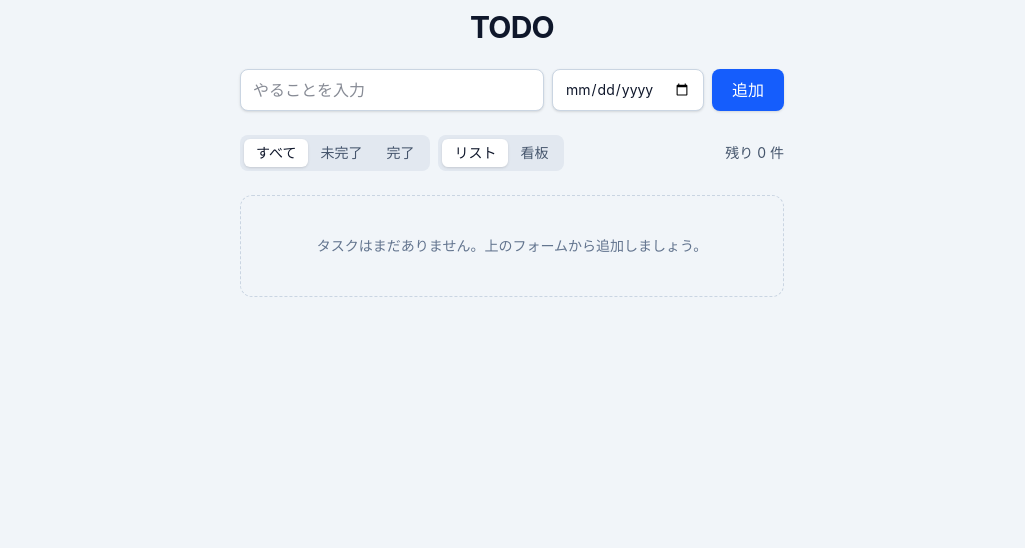
Test: App › セクションと看板表示 › フィルタは看板表示にも効く
Step 1. Type "A" into the field labelled "やること" → (392, 90), box [240,69,544,111]
Step 2. Click the button "追加" → (748, 90), box [712,69,784,111]
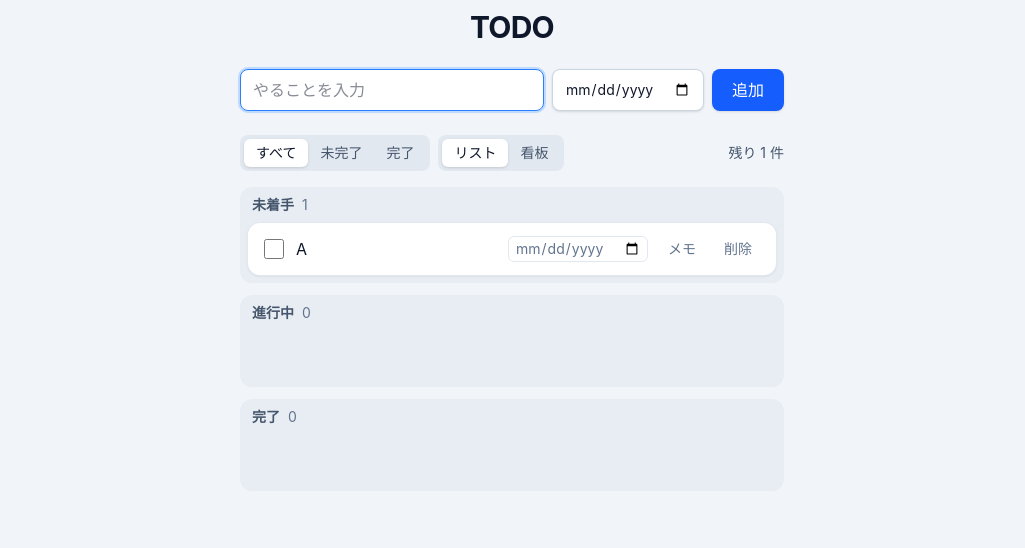
Step 3. Type "B" into the field labelled "やること" → (392, 90), box [240,69,544,111]
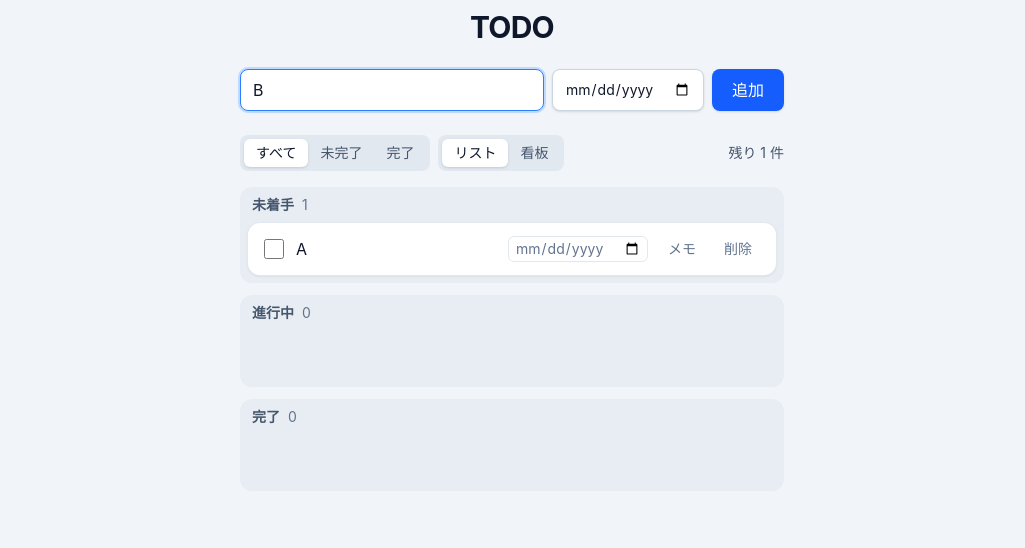
Step 4. Click the button "追加" → (748, 90), box [712,69,784,111]
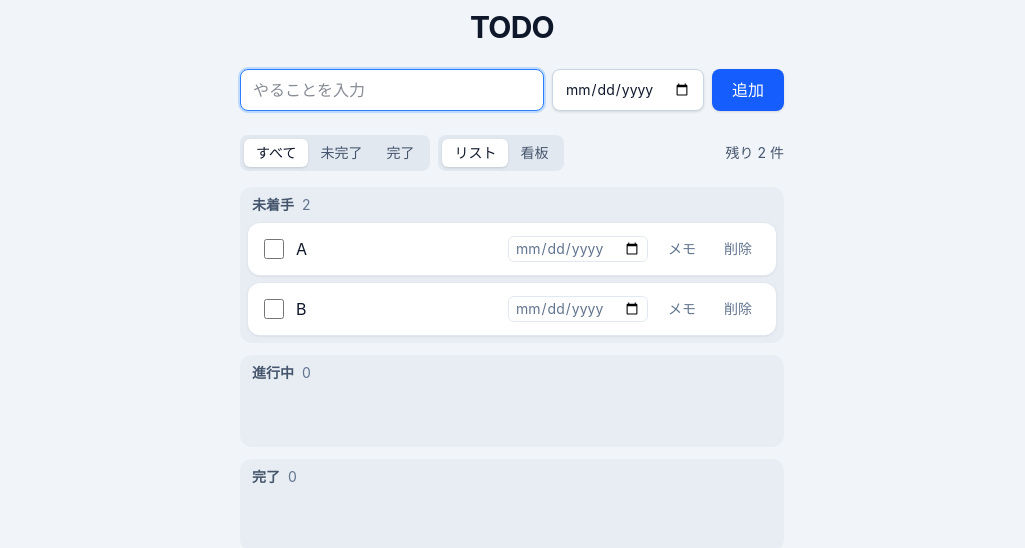
Step 5. Click the 1st checkbox named "完了にする" → (274, 249), box [264,239,284,259]
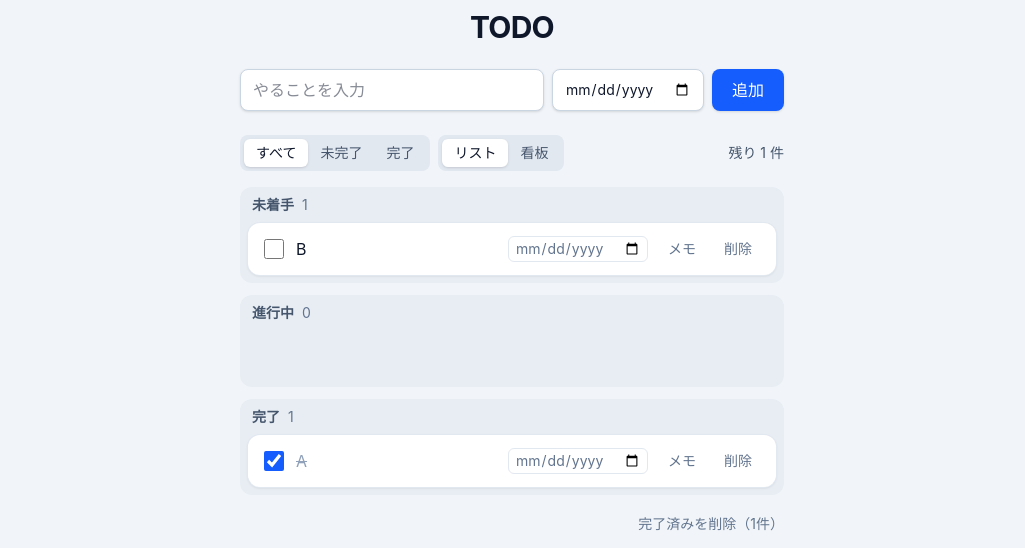
Step 6. Click the button "看板" → (534, 153), box [508,139,560,167]
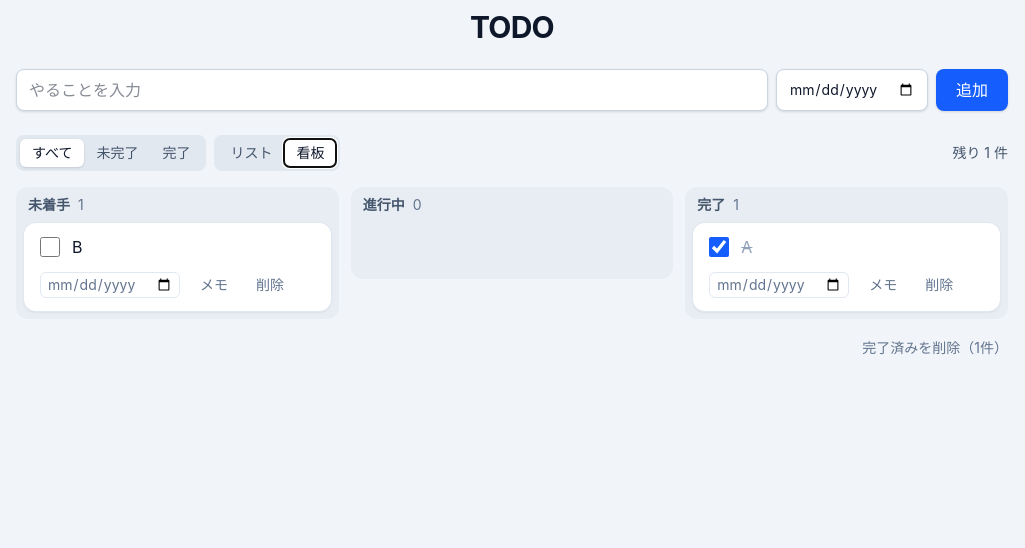
Step 7. Click the button "未完了" → (118, 153), box [84,139,150,167]
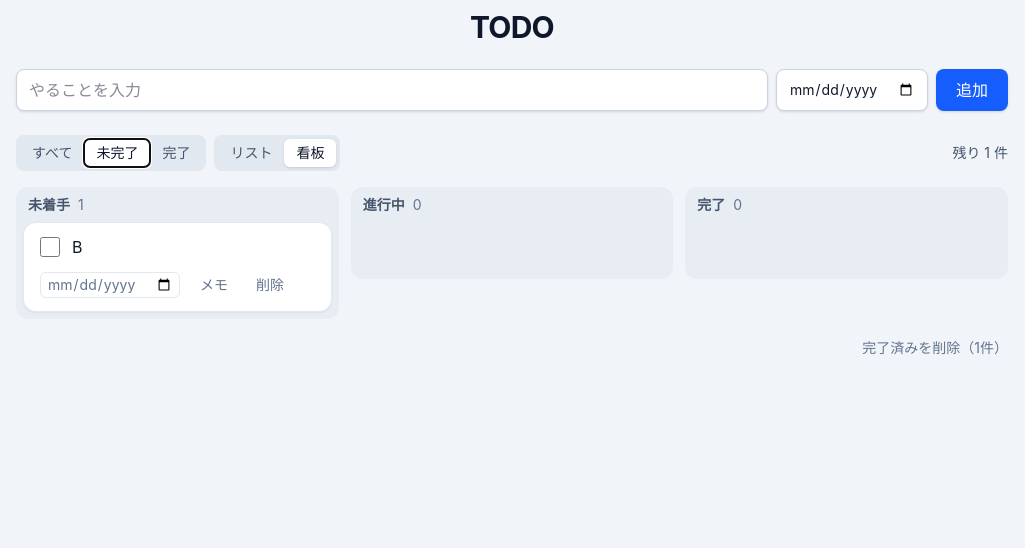
Result: the text "B" is shown at [72,237,82,257]
Result: the text "A" is gone
